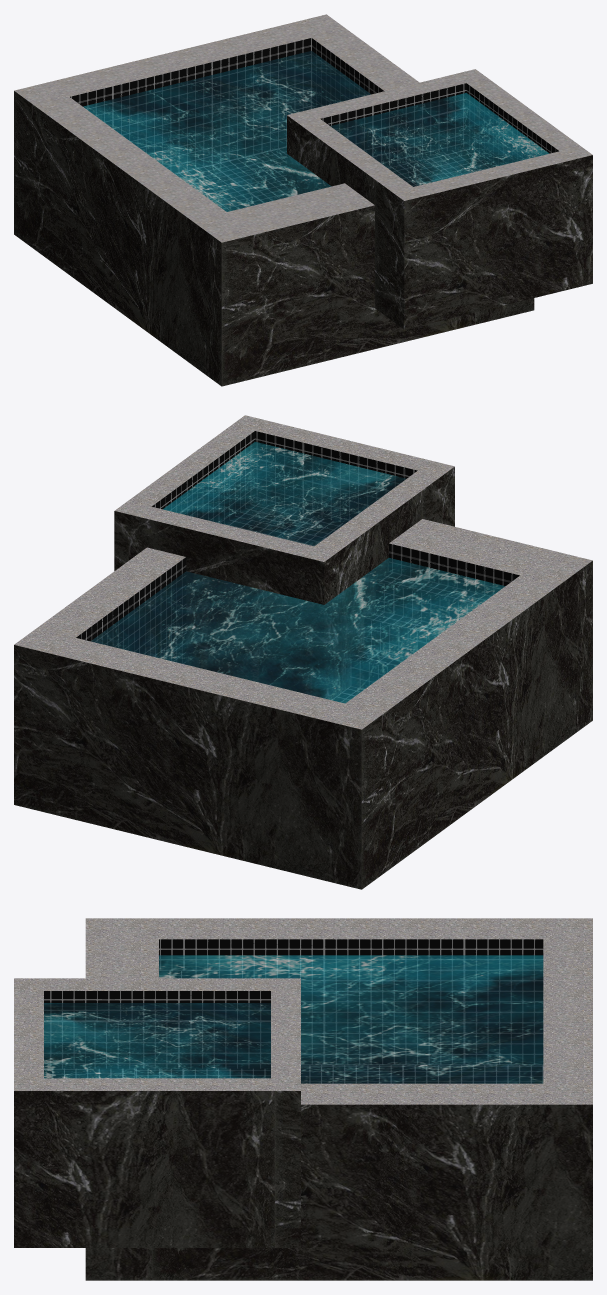
The model's file is pool_jacuzzi.glb.
The picture shows the model from 3 angles, top to bottom: view 1: azimuth 30°, elevation 25°; view 2: azimuth 150°, elevation 25°; view 3: azimuth 270°, elevation 25°; orthographic projection. The views are drawn at different scales.
Visible parts, largest first — view 1: Material2 (×4); view 2: Material2 (×4); view 3: Material2 (×4).
Part boxes in pixels (x1,y1,x2,y2): Material2 (×4): [14, 14, 592, 386]; Material2 (×4): [14, 415, 592, 889]; Material2 (×4): [14, 918, 592, 1280].
Bounding box in the file's own units: 104 × 49.5 × 125.
Materials: 5 (4 with a texture image).
